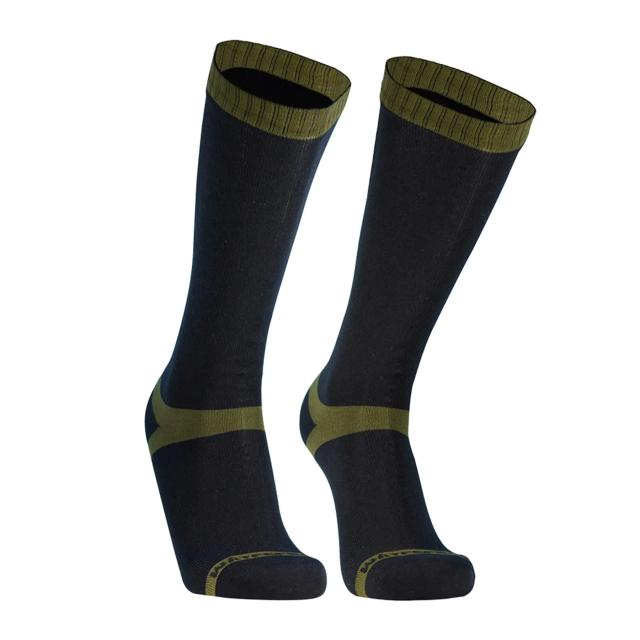sock: (298, 54, 536, 600), (144, 38, 352, 600)
